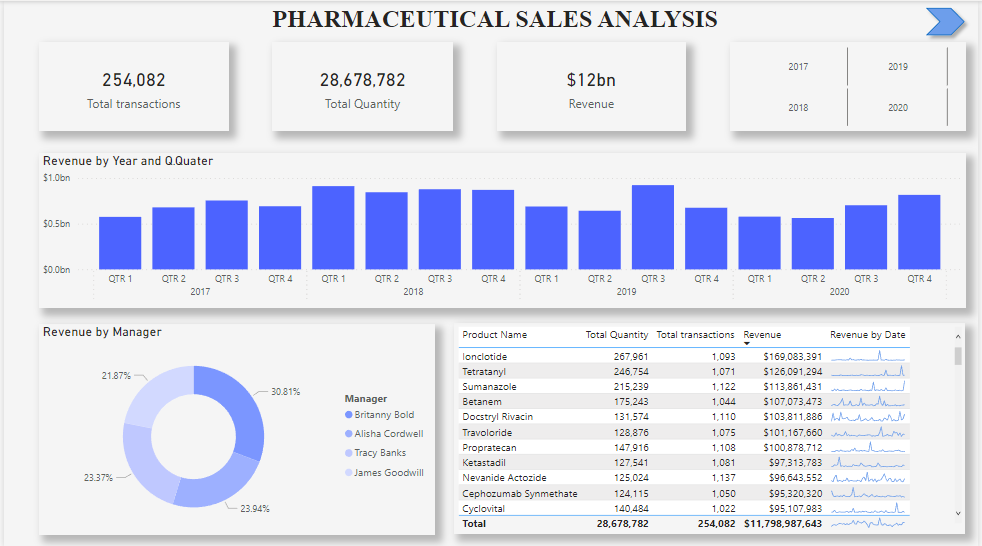

This screenshot's page, from the dashboard's own definition file:
{"tool":"powerbi","page":{"name":"Revenue Summary","canvas":[1280,720],"ordinal":0},"visuals":[{"type":"card","fields":{"Values":["PharmData.Total transactions"]},"box":[45.4,53.7,249.1,117],"z":0},{"type":"card","fields":{"Values":["PharmData.Total Quantity"]},"box":[341.3,53.7,238.1,117],"z":1000},{"type":"card","fields":{"Values":["PharmData.Revenue"]},"box":[626.2,53.7,247.7,117],"z":2000},{"type":"clusteredColumnChart","fields":{"Category":["Calendar.Year Hierarchy.Year","Calendar.Year Hierarchy.Q.Quater","Calendar.Year Hierarchy.Short Month"],"Y":["PharmData.Revenue"]},"box":[45.4,199.6,1218.1,203.7],"z":3000},{"type":"donutChart","fields":{"Y":["PharmData.Revenue"],"Category":["DimSales.Manager"]},"box":[45.4,423.9,520.3,276.6],"z":4000},{"type":"tableEx","fields":{"Values":["DimProduct.Product Name","PharmData.Total Quantity","PharmData.Total transactions","PharmData.Revenue","SparklineData(PharmData.Revenue_[Calendar.Date])"]},"box":[591.3,423.3,671.9,277.2],"z":5000},{"type":"slicer","fields":{"Values":["Calendar.Year"]},"box":[927.7,53.7,342.7,88.1],"z":6000},{"type":"textbox","box":[336,0,618.2,77.3],"z":7000},{"type":"shape","box":[1201.5,0,68.8,53.7],"z":8000}]}

Visuals, with their boxes in screenshot pixels (x1, y1, x2, y2), scaled from the page's 1280x720 canvas onto the 982x546 screenshot:
card - PharmData.Total transactions: bbox=[35, 41, 226, 129]
card - PharmData.Total Quantity: bbox=[262, 41, 445, 129]
card - PharmData.Revenue: bbox=[480, 41, 670, 129]
clusteredColumnChart - Calendar.Year Hierarchy.Year x Calendar.Year Hierarchy.Q.Quater: bbox=[35, 151, 969, 306]
donutChart - PharmData.Revenue x DimSales.Manager: bbox=[35, 321, 434, 531]
tableEx - DimProduct.Product Name x PharmData.Total Quantity: bbox=[454, 321, 969, 531]
slicer - Calendar.Year: bbox=[712, 41, 975, 108]
textbox: bbox=[258, 0, 732, 59]
shape: bbox=[922, 0, 975, 41]
